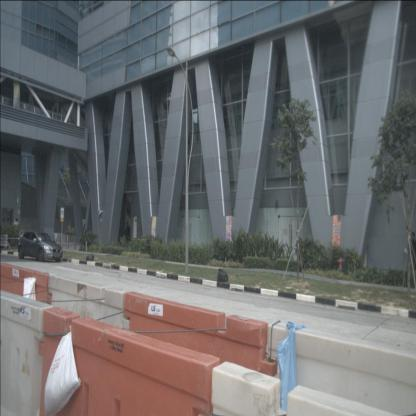human-pedestrian-adult: (408, 232, 416, 278), (125, 220, 131, 248), (13, 218, 19, 245)
movable_object-barrier: (39, 307, 220, 415), (124, 291, 278, 416), (267, 320, 416, 416), (211, 361, 416, 416), (48, 272, 130, 374), (0, 290, 54, 416), (0, 263, 53, 336)
vehicle-car: (17, 230, 63, 263)
